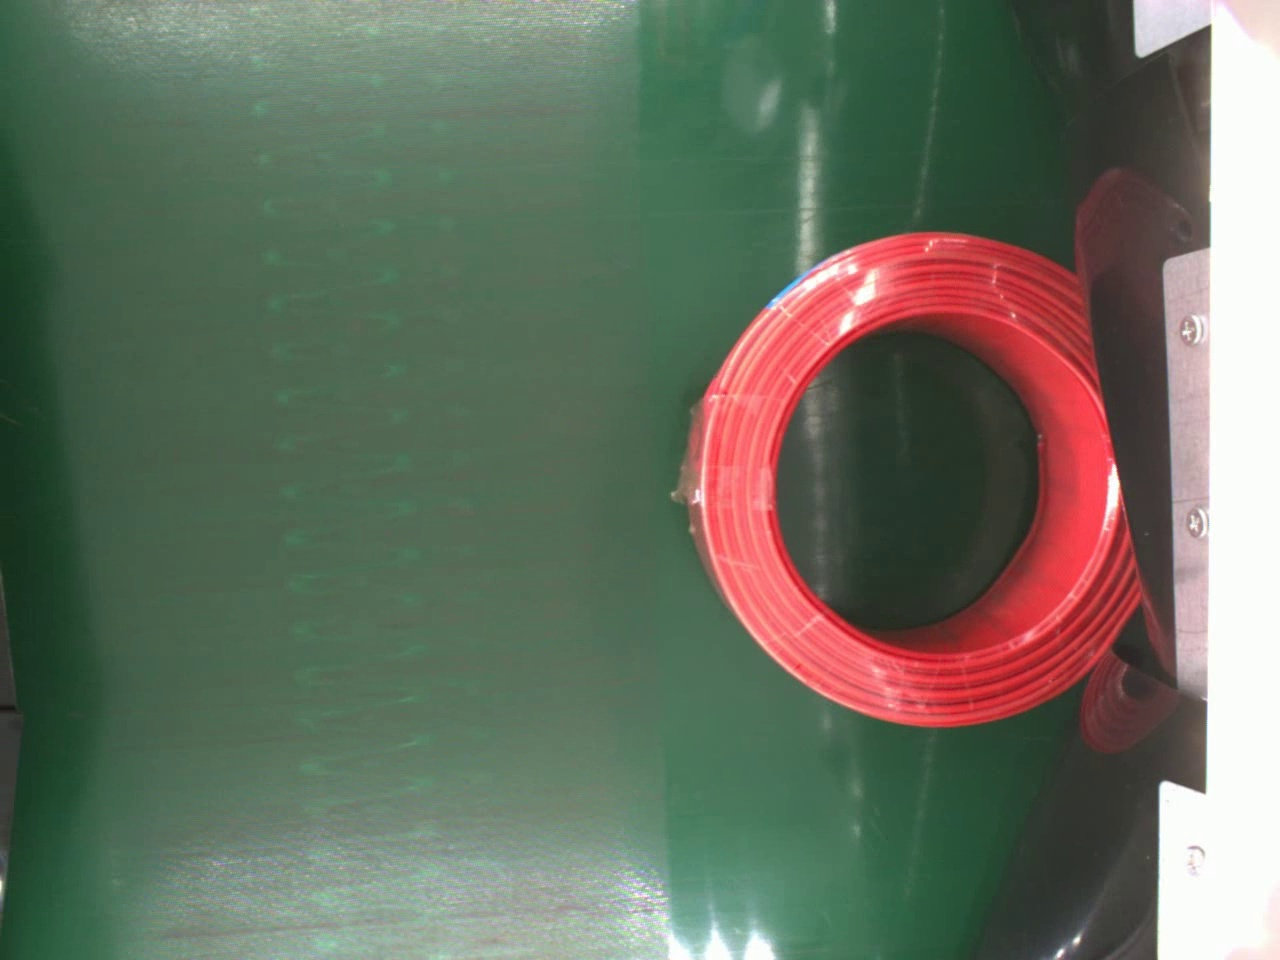red: (681, 229, 1134, 729)
